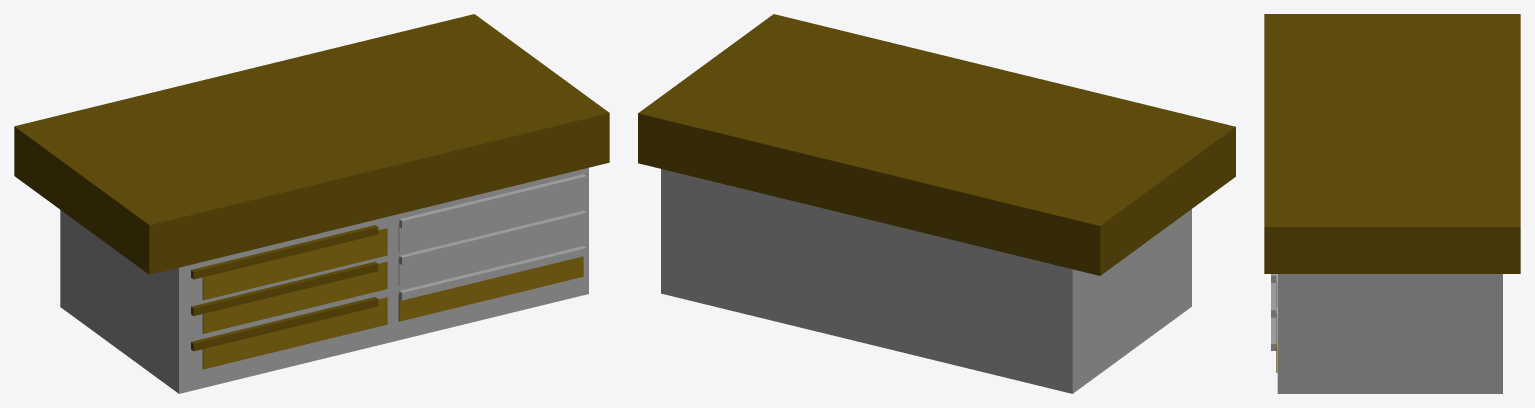
The model's file is TVStand_4.fbx.
The picture shows the model from 3 angles, left to right: view 1: azimuth 30°, elevation 25°; view 2: azimuth 150°, elevation 25°; view 3: azimuth 270°, elevation 25°; orthographic projection. The views are drawn at different scales.
Parts seen in each view (by area): view 1: pCube2, pCube1, pCube21, pCube13, pCube19, pCube15, pCube20, pCube14, pCube3, pCube4, pCube5, pCube10 (+2 smaller); view 2: pCube2, pCube1; view 3: pCube2, pCube1.
Part boxes in pixels (left/top/right/bottom): pCube2: left=14, top=14, right=609, bottom=274; pCube1: left=60, top=167, right=588, bottom=393; pCube21: left=202, top=228, right=387, bottom=300; pCube13: left=398, top=184, right=583, bottom=252; pCube19: left=202, top=297, right=387, bottom=369; pCube15: left=398, top=256, right=583, bottom=321; pCube20: left=202, top=261, right=387, bottom=333; pCube14: left=398, top=221, right=583, bottom=285; pCube3: left=399, top=174, right=586, bottom=228; pCube4: left=399, top=210, right=586, bottom=265; pCube5: left=399, top=246, right=586, bottom=300; pCube10: left=191, top=297, right=378, bottom=351; pCube2: left=638, top=14, right=1235, bottom=275; pCube1: left=661, top=169, right=1191, bottom=393; pCube2: left=1264, top=14, right=1520, bottom=273; pCube1: left=1277, top=274, right=1502, bottom=393.
Bounding box in the file's own units: 89.93 × 34.16 × 45.74.
